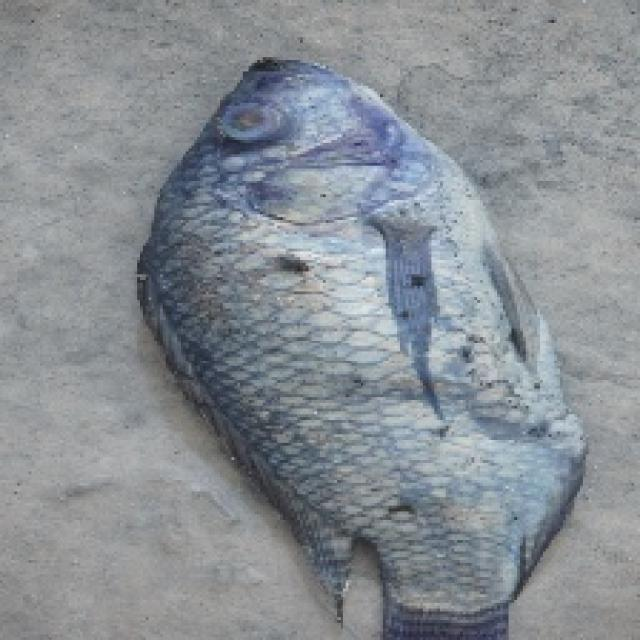Non-Fresh: (139, 44, 548, 622)
